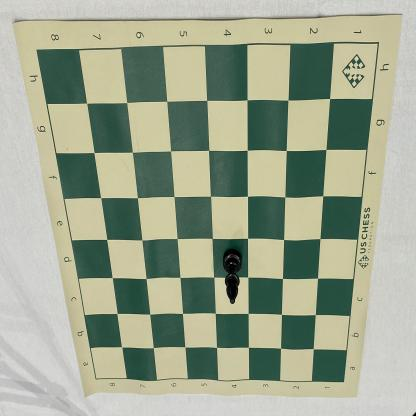black-bishop: (222, 249, 242, 304)
